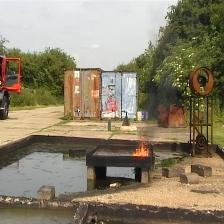fire: (128, 140, 156, 160)
